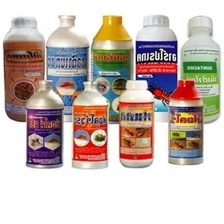insecticide: (87, 12, 136, 126), (41, 14, 92, 123), (132, 11, 181, 124), (178, 15, 223, 126), (2, 13, 47, 123), (23, 77, 66, 171), (70, 79, 111, 171), (165, 78, 206, 166), (118, 78, 156, 168)
